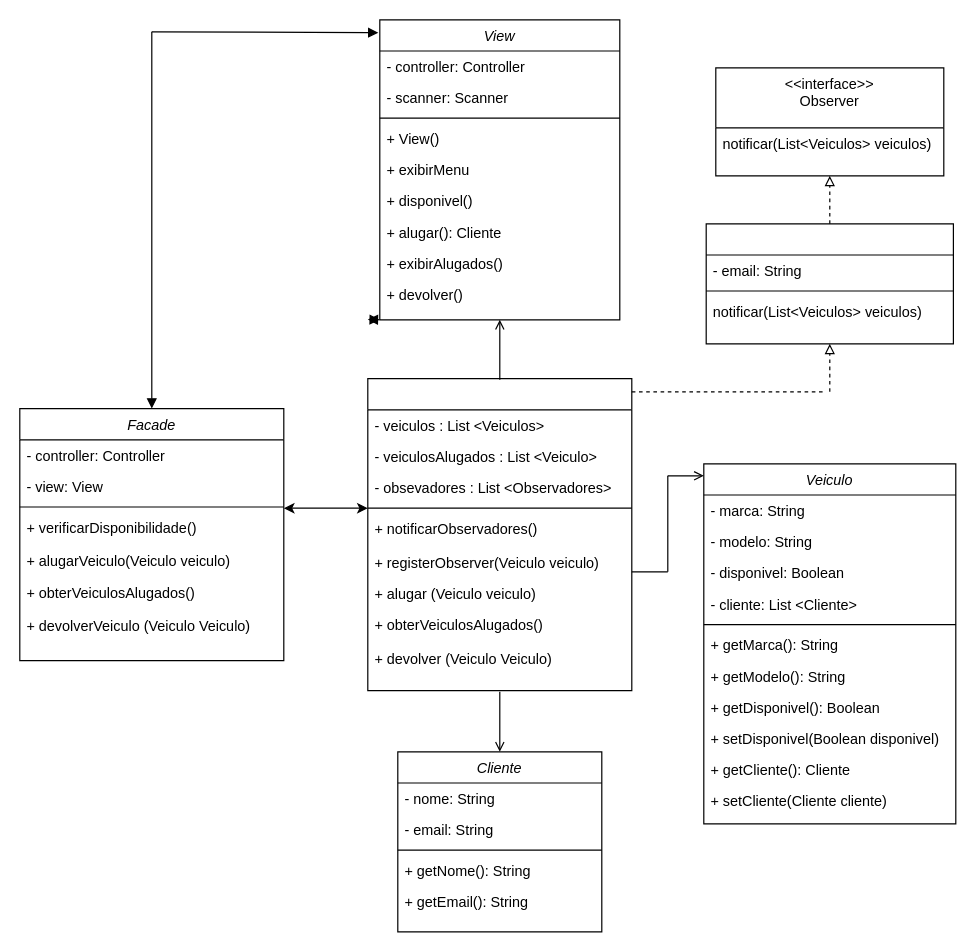
Some shapes in this 976 by 952 pixel diagram are drawn without their labels. Here are the shapes that lost their labels. From the top down, the box of each, then its label:
(705, 223, 953, 344): Observador
(367, 377, 632, 691): Controller
